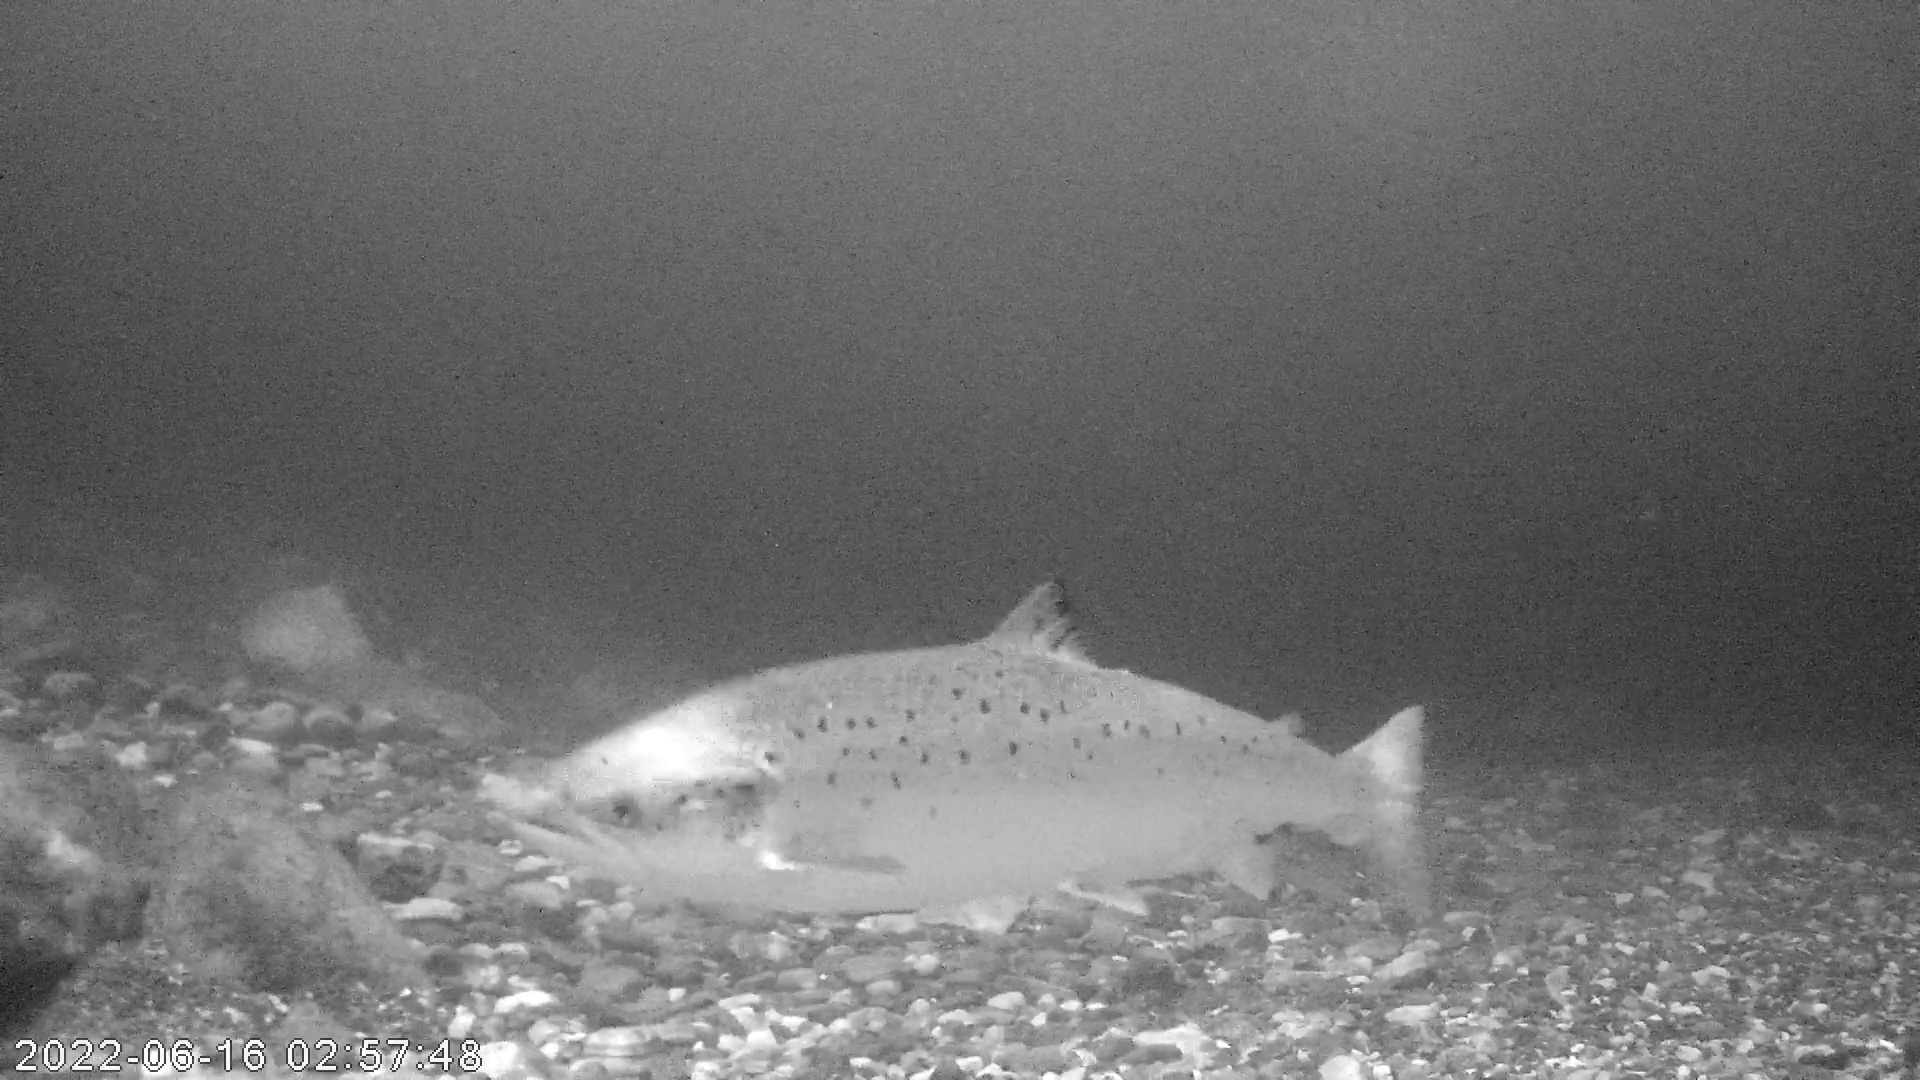salmon: (498, 575, 1436, 920)
